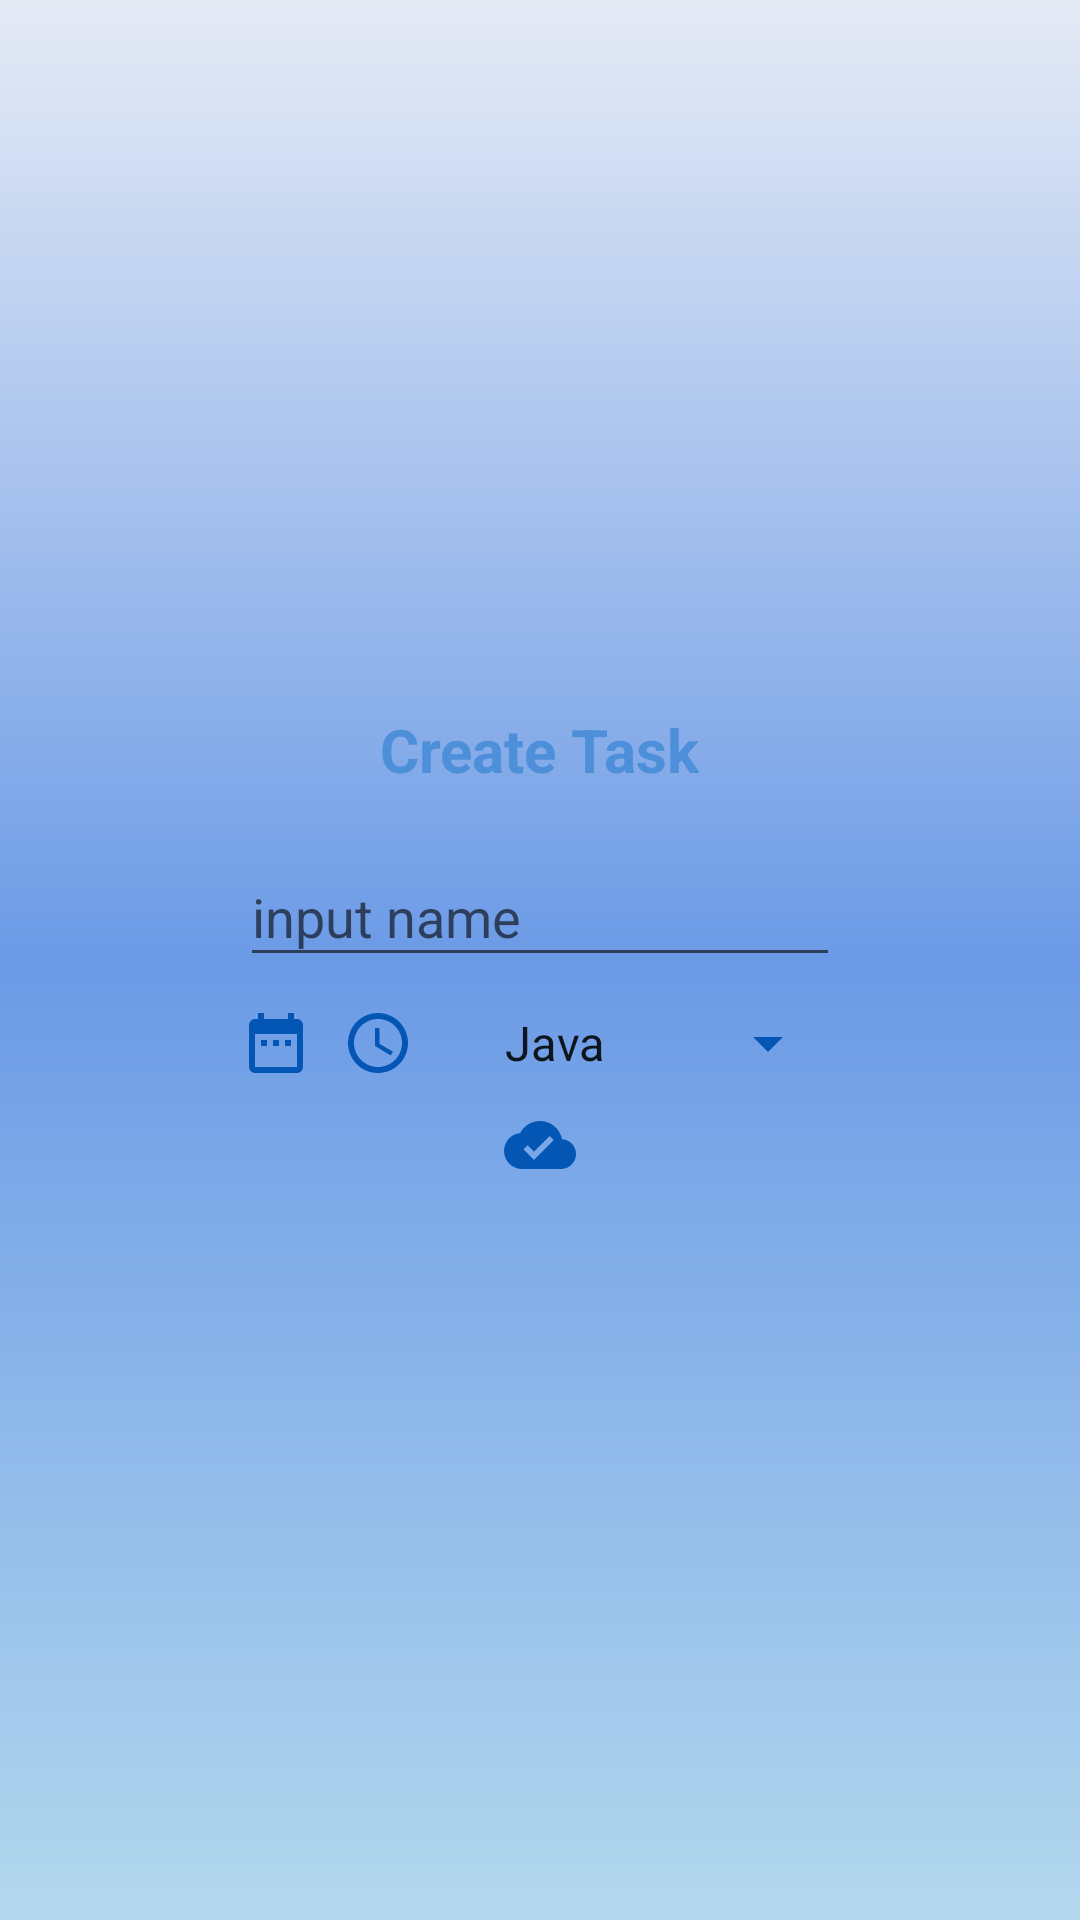

Point at icon controls on the screen. Image size 1080 x 1920, points as (x=x, y=y).
access time: (x=378, y=1043)
cloud done: (x=540, y=1145)
date: (x=276, y=1043)
